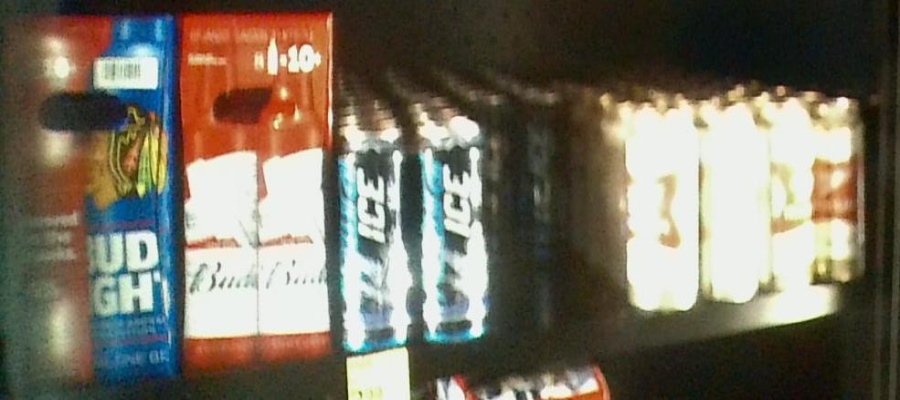bottle: (1, 13, 176, 381), (180, 11, 333, 367), (338, 124, 486, 350), (636, 107, 762, 308), (763, 100, 867, 284), (484, 97, 565, 257)
